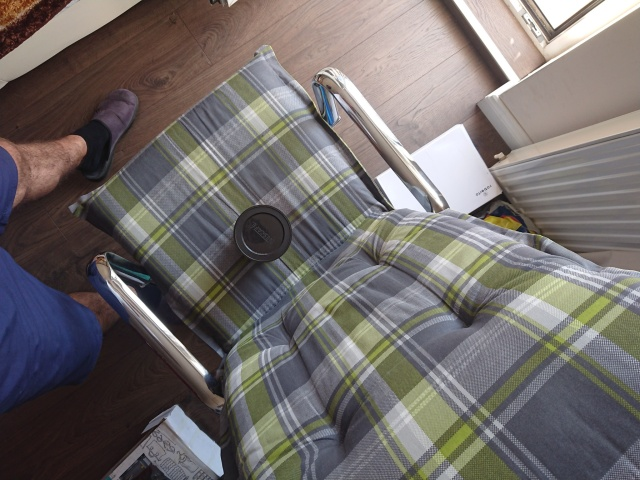Nescafe Classic 225g: (231, 203, 295, 265)
